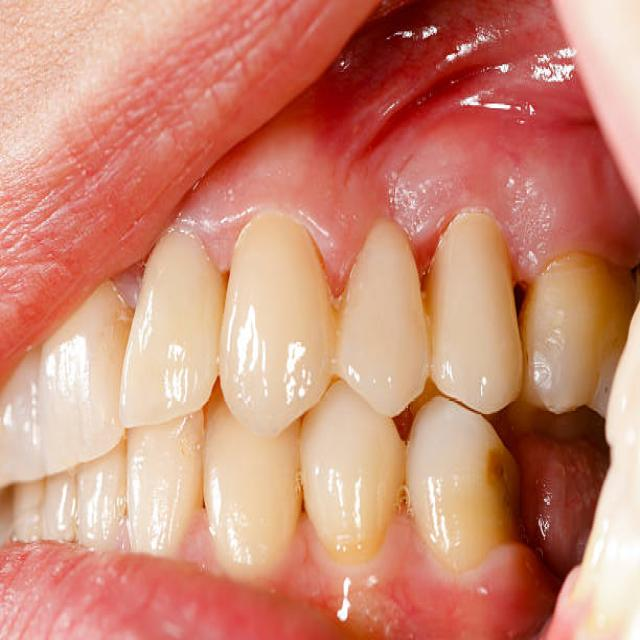caries: (501, 251, 546, 345)
